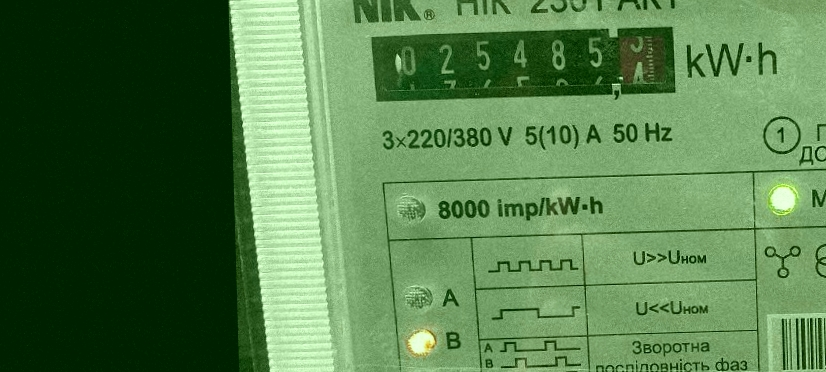0: (397, 41, 419, 77)
2: (436, 40, 457, 76)
4: (509, 35, 531, 70), (629, 58, 649, 86)
5: (584, 33, 606, 71), (472, 36, 493, 72)
8: (548, 34, 569, 73)
screen: (362, 18, 685, 113)
